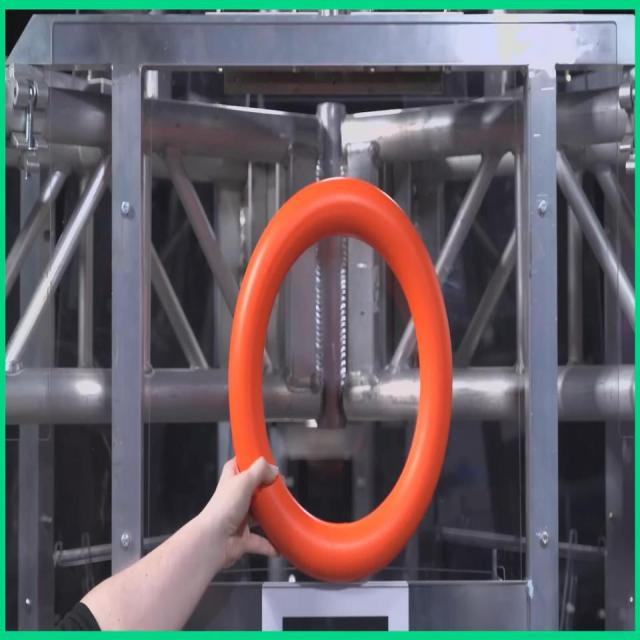note: (228, 178, 453, 583)
